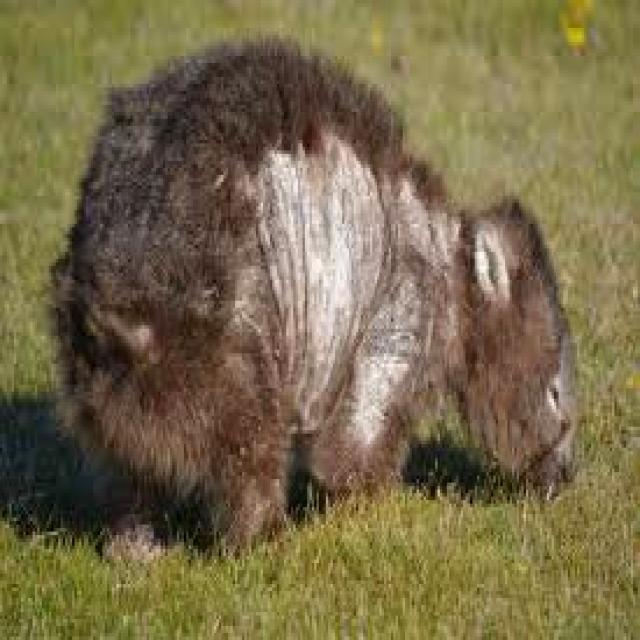wombats: (51, 38, 575, 556)
